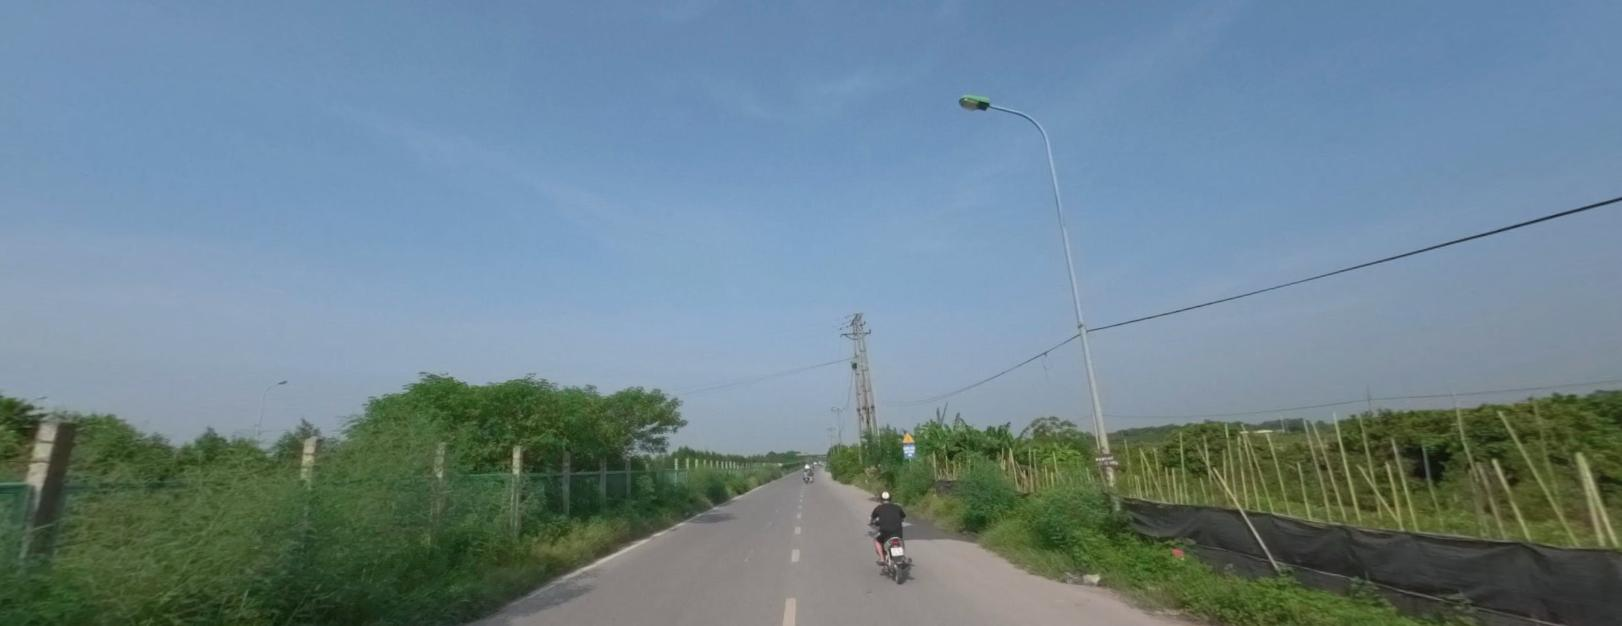Nguy hiem: (901, 430, 915, 441)
